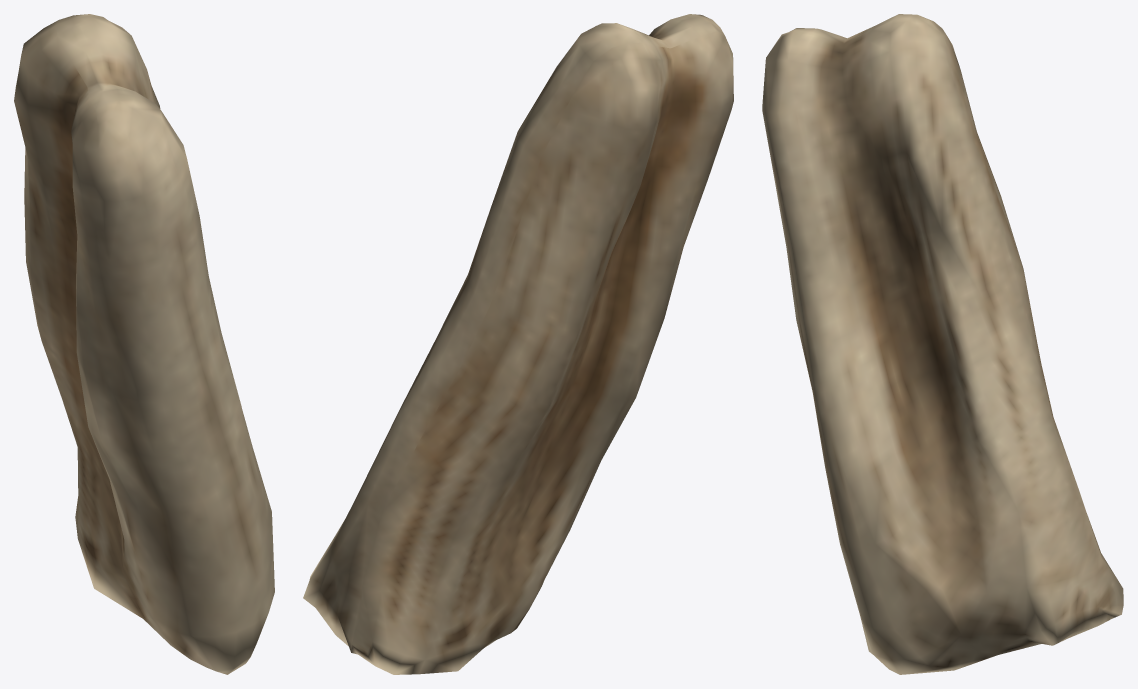
File: Maxilary_Premolar1.glb
The picture shows the model from 3 angles, left to right: view 1: azimuth 30°, elevation 25°; view 2: azimuth 150°, elevation 25°; view 3: azimuth 270°, elevation 25°; orthographic projection. The views are drawn at different scales.
Parts seen in each view (by area): view 1: Group62542_Mesh.027; view 2: Group62542_Mesh.027; view 3: Group62542_Mesh.027.
Part boxes in pixels (x1,y1,x2,y2): Group62542_Mesh.027: (14, 14, 274, 674); Group62542_Mesh.027: (303, 14, 733, 674); Group62542_Mesh.027: (762, 14, 1123, 674).
Bounding box in the file's own units: 0.0362 × 0.076 × 0.042.
Materials: 1 (1 with a texture image).
